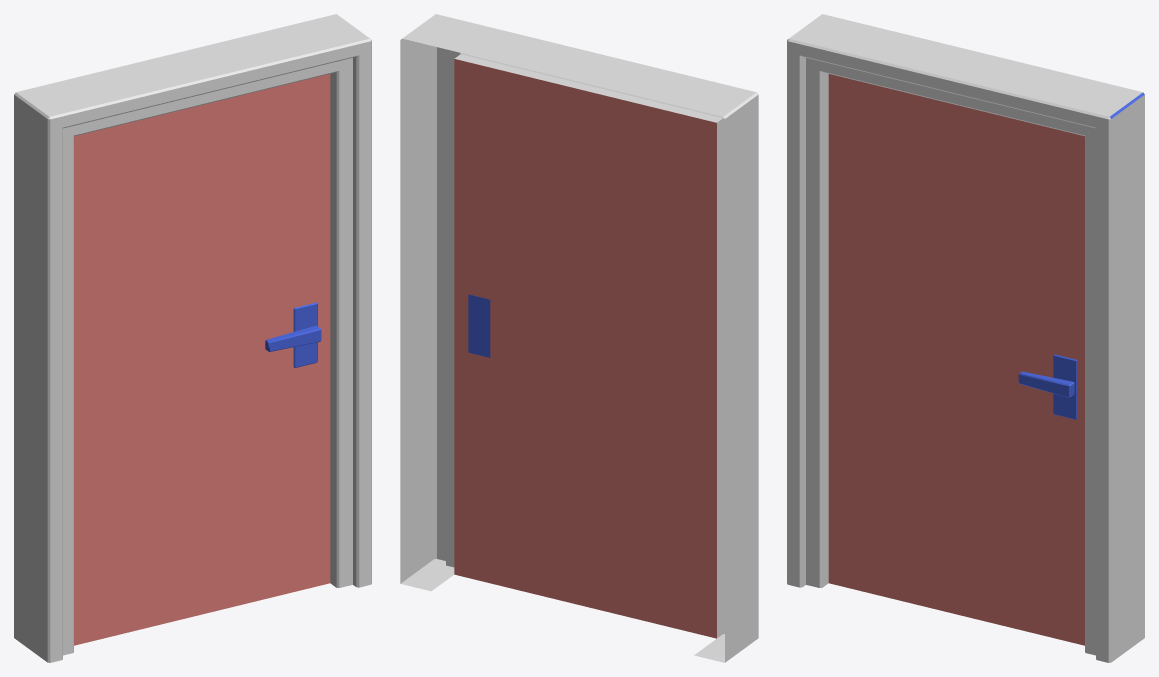
File: door.fbx
3 renders of one model, left to right at view 1: azimuth 30°, elevation 25°; view 2: azimuth 150°, elevation 25°; view 3: azimuth 330°, elevation 25°, orthographic.
Parts seen in each view (by area): view 1: door; view 2: door; view 3: door.
Boxes of the visible parts, x1,y1,x2,y2 form: door: (14, 14, 371, 662); door: (400, 14, 758, 662); door: (787, 14, 1144, 662).
Bounding box in the file's own units: 200 × 321 × 36.92.
